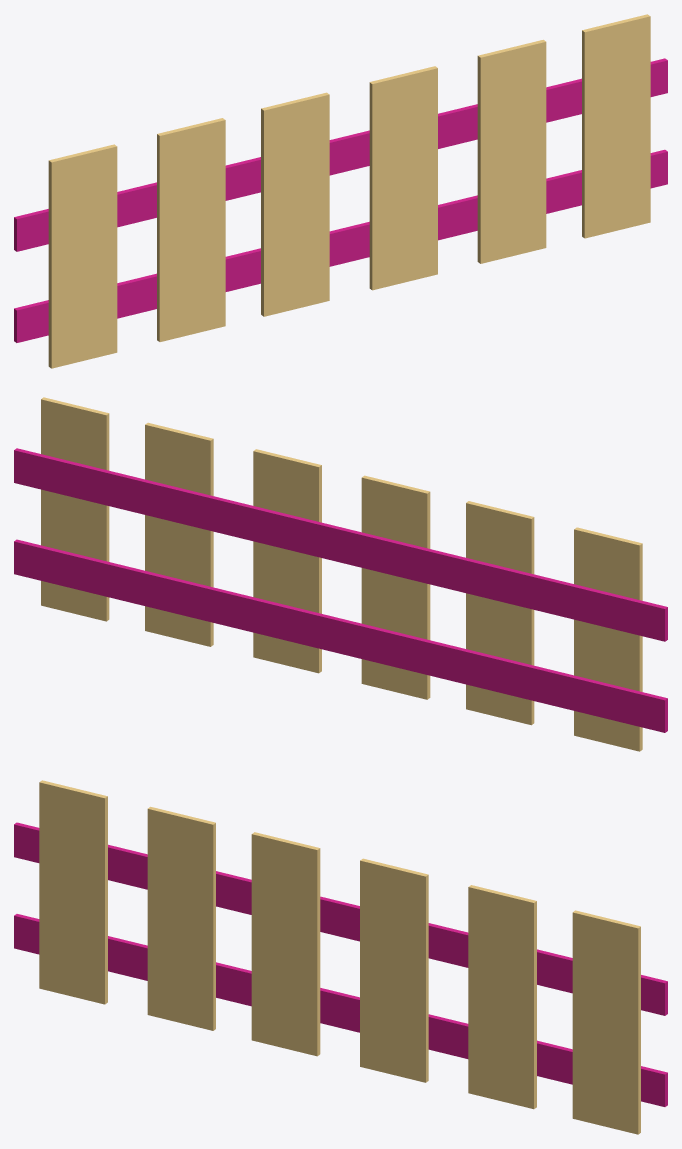
File: mesh_barriere.fbx
The picture shows the model from 3 angles, top to bottom: view 1: azimuth 30°, elevation 25°; view 2: azimuth 150°, elevation 25°; view 3: azimuth 330°, elevation 25°; orthographic projection.
Visible parts, largest first — view 1: barrière; view 2: barrière; view 3: barrière.
Part boxes in pixels (left/top/right/bottom): barrière: left=14, top=14, right=667, bottom=368; barrière: left=14, top=397, right=667, bottom=751; barrière: left=14, top=780, right=667, bottom=1134.
Size of the model in its own units: 198 by 60 by 3.97.
